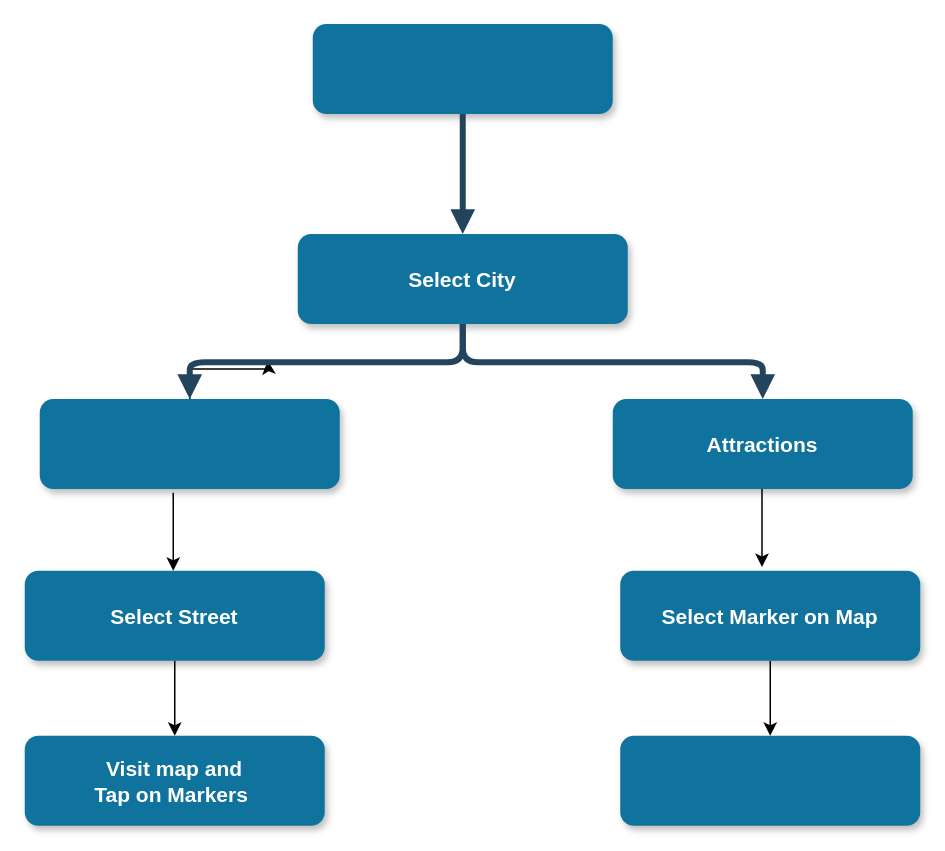
Some shapes in this 945 by 851 pixel diagram are drawn without their labels. Here are the shapes that lost their labels. From the top down, the centre of each, then its label:
(x=463, y=70): Click on Search Now ->
(x=190, y=445): Restaurants
(x=771, y=782): Click on More info for Information
